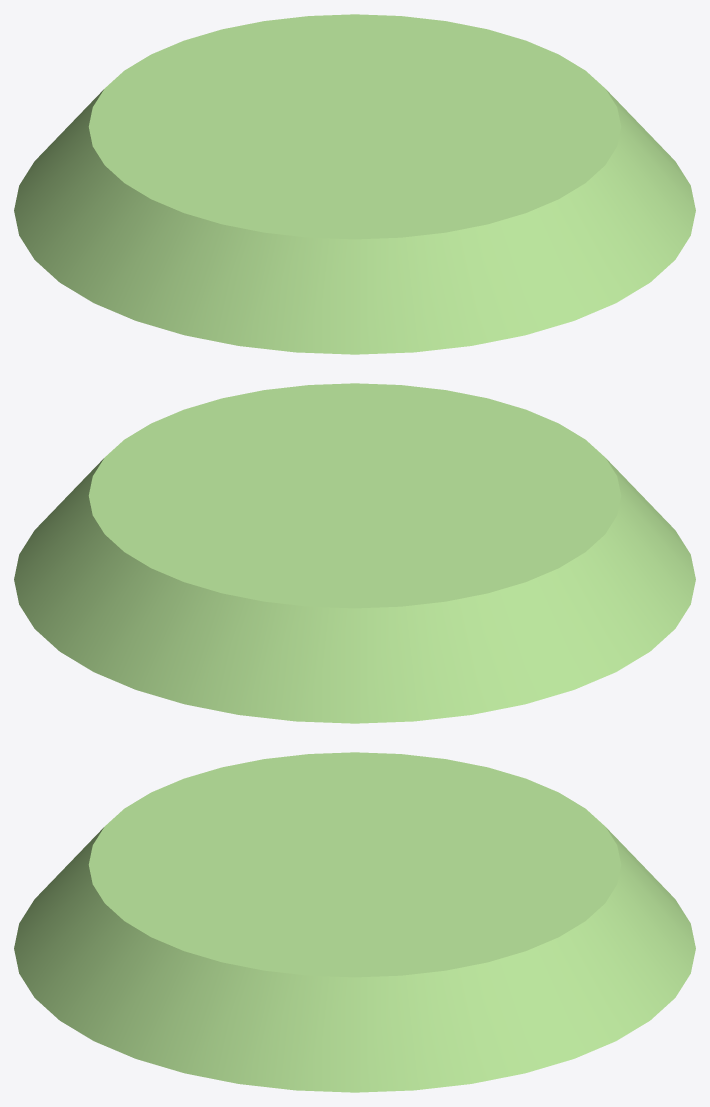
File: Plataforma.obj
The picture shows the model from 3 angles, top to bottom: view 1: azimuth 30°, elevation 25°; view 2: azimuth 150°, elevation 25°; view 3: azimuth 270°, elevation 25°; orthographic projection.
Visible parts, largest first — view 1: Cylinder001; view 2: Cylinder001; view 3: Cylinder001.
Part boxes in pixels (left/top/right/bottom): Cylinder001: left=14, top=14, right=695, bottom=354; Cylinder001: left=14, top=383, right=695, bottom=723; Cylinder001: left=14, top=752, right=695, bottom=1092.
Size of the model in its own units: 155 by 20.95 by 155.
